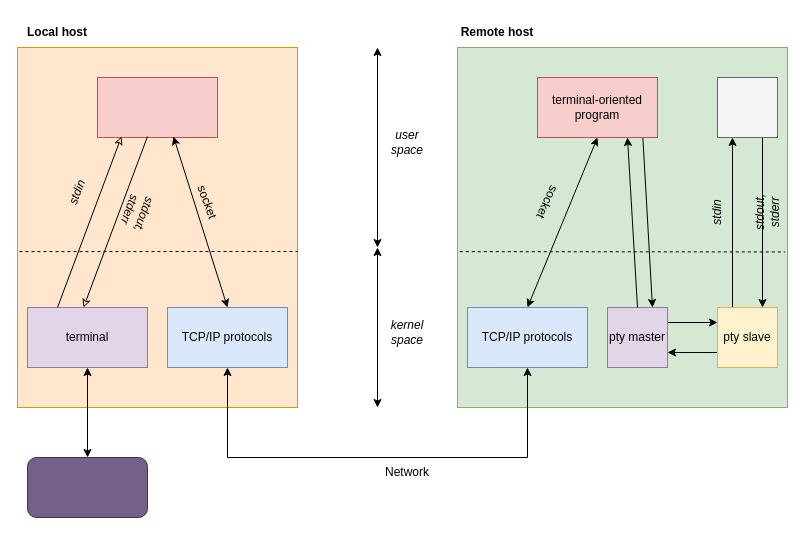
The diagram is 805 pixels wide and 535 high, and some of its shapes have lost their labels. Each missing label, with the centre of its shape:
client program: the point at 157,107
login shell: the point at 747,107
user at terminal: the point at 87,487
